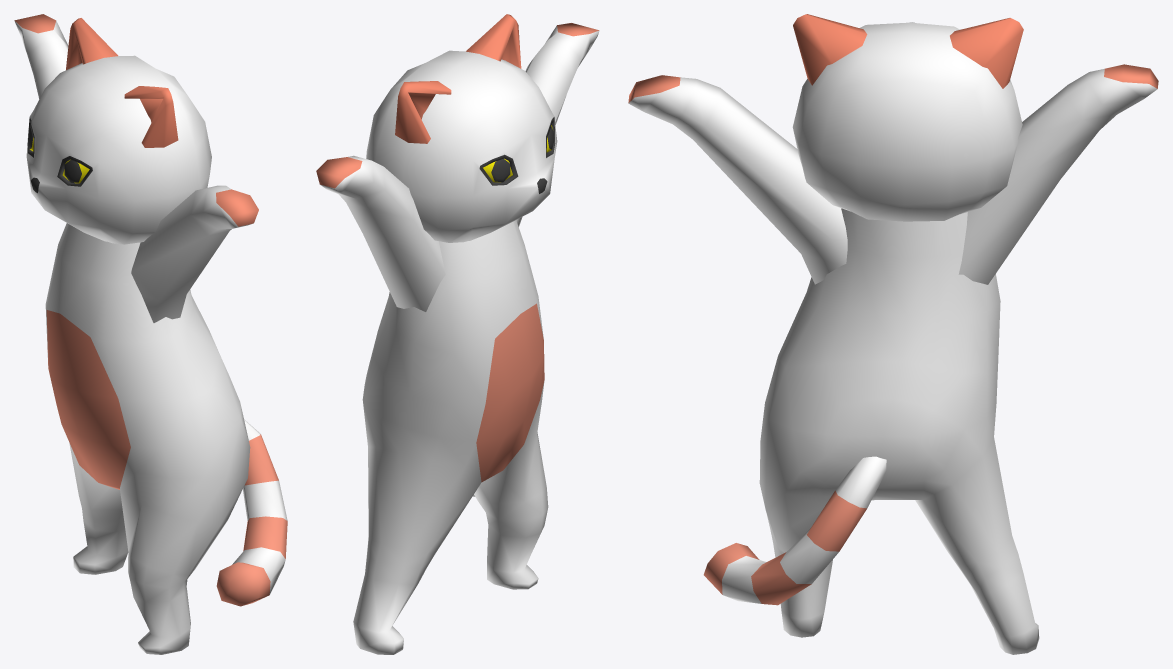
Rendered from Tuong meo 1.005.gltf.
3 renders of one model, left to right at view 1: azimuth 30°, elevation 25°; view 2: azimuth 150°, elevation 25°; view 3: azimuth 270°, elevation 25°, orthographic. The views are drawn at different scales.
Parts seen in each view (by area): view 1: Tuong meo 1.005; view 2: Tuong meo 1.005; view 3: Tuong meo 1.005.
Boxes of the visible parts, x1,y1,x2,y2 form: Tuong meo 1.005: (14, 14, 287, 654); Tuong meo 1.005: (316, 14, 599, 654); Tuong meo 1.005: (628, 14, 1158, 654).
Size of the model in its own units: 2.89 by 7.58 by 5.94.
1 material, 1 textured.
